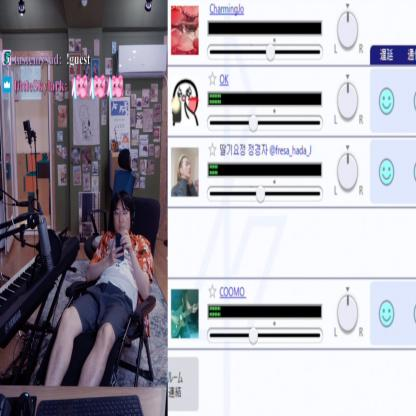streamer: (40, 188, 155, 388)
